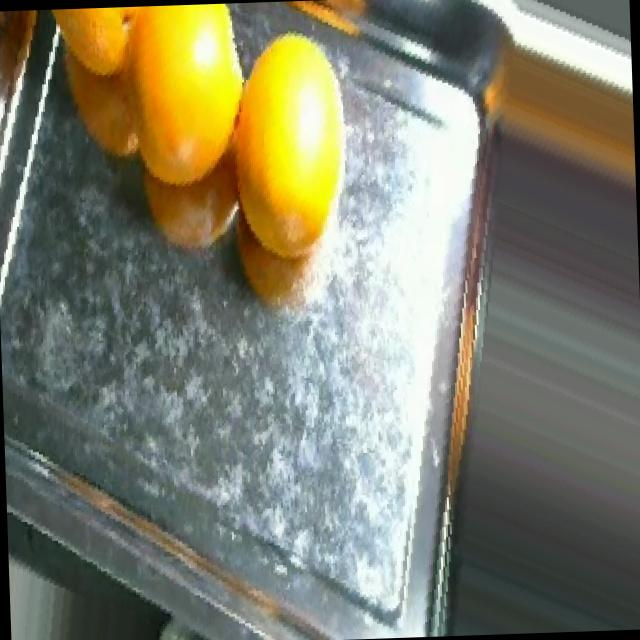Fruit: (260, 0, 394, 52)
